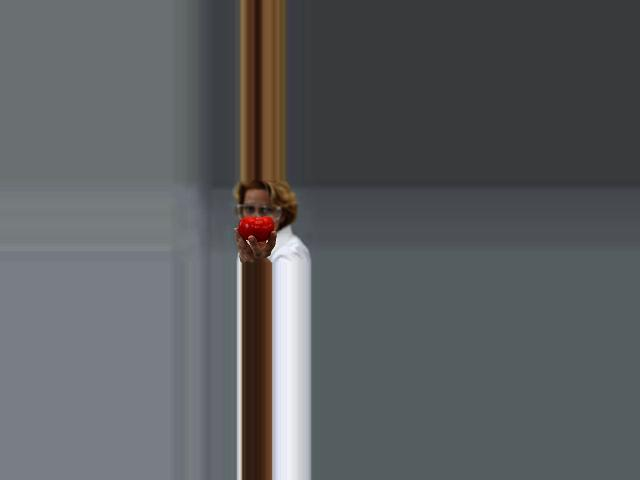tomato: (239, 217, 275, 241)
